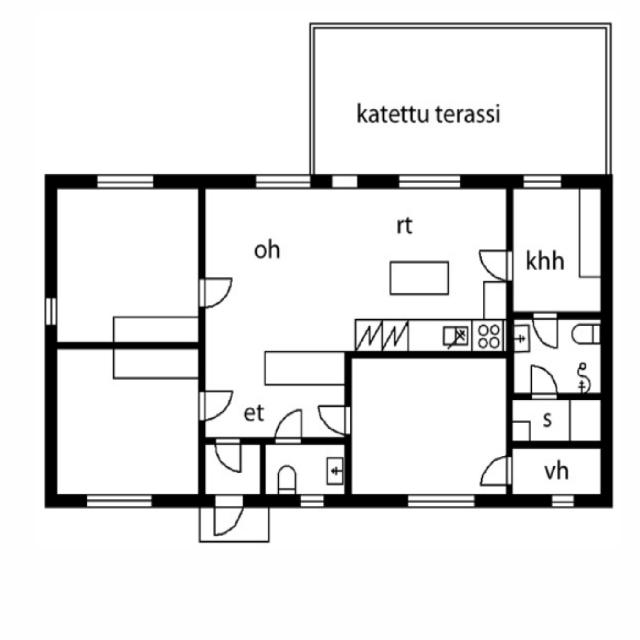door: (298, 22, 618, 178), (261, 440, 350, 500), (517, 342, 591, 401), (274, 407, 346, 442), (208, 490, 248, 540), (472, 242, 519, 284), (194, 384, 236, 424), (193, 272, 236, 310), (210, 435, 248, 477), (523, 360, 562, 400), (313, 400, 355, 437), (475, 452, 515, 490), (271, 405, 308, 445), (530, 309, 562, 352)
window: (88, 166, 162, 196), (78, 488, 158, 514), (401, 490, 482, 511), (392, 168, 468, 190), (515, 167, 572, 193), (250, 171, 316, 190), (40, 290, 62, 333), (547, 490, 581, 511), (296, 493, 328, 510)
zone: (208, 190, 513, 358), (50, 182, 203, 346), (49, 347, 206, 503), (346, 356, 512, 502), (509, 183, 606, 318), (510, 314, 608, 399), (507, 445, 611, 503), (262, 442, 348, 500), (500, 399, 606, 446)
